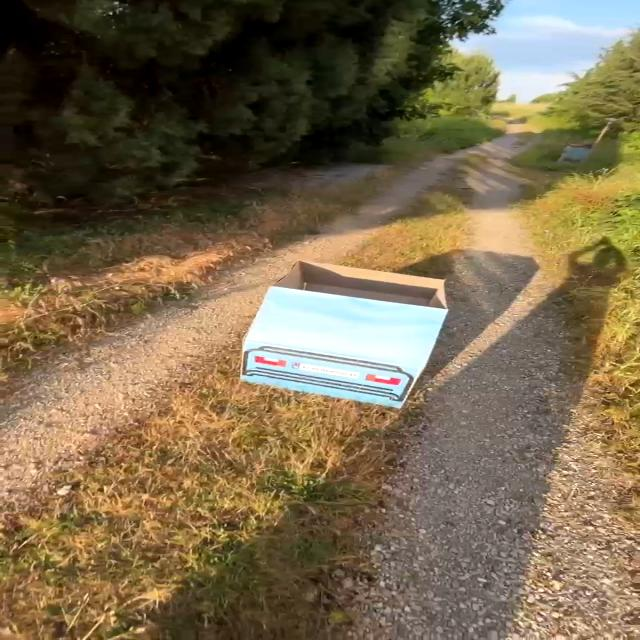blue_car: (195, 234, 480, 426)
